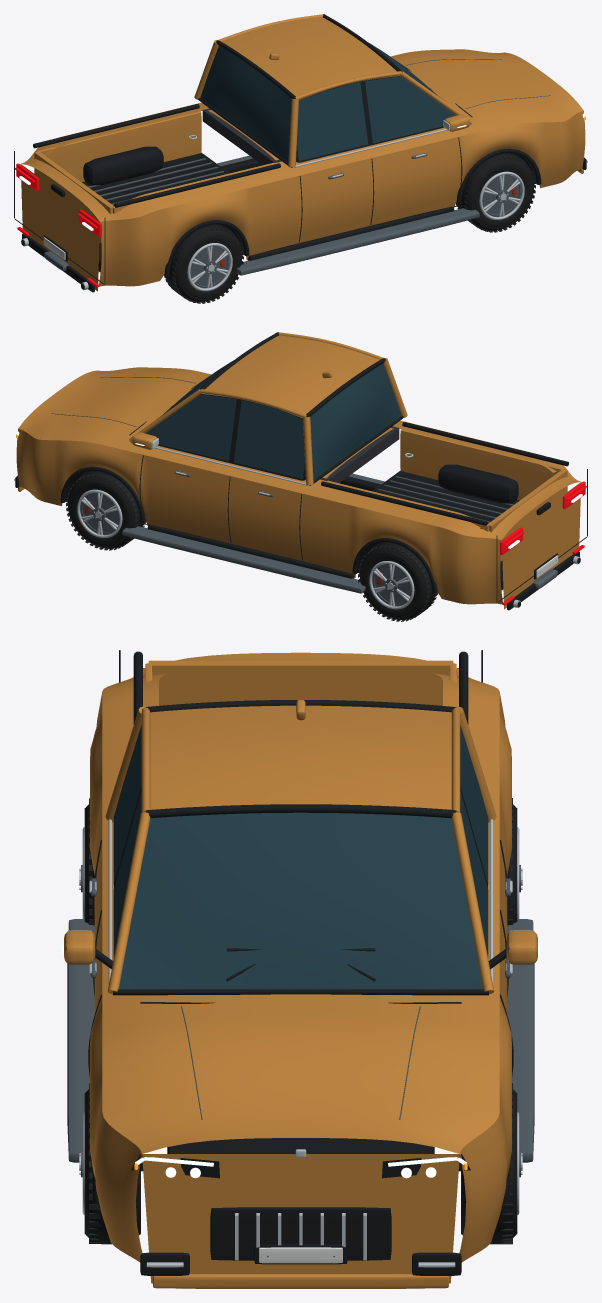
Rendered from pickup.glb.
The picture shows the model from 3 angles, top to bottom: view 1: azimuth 30°, elevation 25°; view 2: azimuth 150°, elevation 25°; view 3: azimuth 270°, elevation 25°; orthographic projection. The views are drawn at different scales.
Parts seen in each view (by area): view 1: Paint / body colour, Smoked automotive glass, Satin black trim, Graphite alloy, Tyre rubber, Satin aluminium, Tyre tread edges, Charcoal upholstery, Rear light lenses, Panel gaps; view 2: Paint / body colour, Smoked automotive glass, Satin black trim, Graphite alloy, Tyre rubber, Satin aluminium, Tyre tread edges, Charcoal upholstery, Rear light lenses, Panel gaps; view 3: Paint / body colour, Smoked automotive glass, Satin black trim, Graphite alloy, Satin aluminium, Tyre rubber, Tyre tread edges, Plain number plates, Panel gaps, LED daylight.
Part boxes in pixels (box(x1,y1,x2,y2)): Paint / body colour: box(20, 14, 585, 291); Smoked automotive glass: box(200, 42, 455, 162); Satin black trim: box(21, 14, 586, 292); Graphite alloy: box(44, 59, 550, 288); Tyre rubber: box(166, 153, 534, 301); Satin aluminium: box(21, 124, 587, 291); Tyre tread edges: box(164, 155, 535, 303); Charcoal upholstery: box(202, 108, 281, 165); Rear light lenses: box(15, 163, 101, 287); Panel gaps: box(14, 63, 472, 284); Paint / body colour: box(16, 332, 581, 609); Smoked automotive glass: box(146, 360, 401, 480); Satin black trim: box(15, 332, 580, 610); Graphite alloy: box(51, 377, 557, 606); Tyre rubber: box(67, 471, 435, 619); Satin aluminium: box(14, 442, 580, 609); Tyre tread edges: box(66, 471, 437, 621); Charcoal upholstery: box(320, 426, 399, 483); Rear light lenses: box(500, 481, 586, 605); Panel gaps: box(129, 381, 587, 602); Paint / body colour: box(64, 652, 537, 1288); Smoked automotive glass: box(113, 725, 488, 989); Satin black trim: box(92, 651, 509, 1275); Graphite alloy: box(67, 865, 534, 1257); Satin aluminium: box(79, 819, 522, 1267); Tyre rubber: box(85, 804, 516, 1244); Tyre tread edges: box(84, 798, 517, 1244); Plain number plates: box(259, 1247, 342, 1263); Panel gaps: box(88, 650, 513, 1076); LED daylight: box(62, 945, 539, 1178).
Bounding box in the file's own units: 5.57 × 1.94 × 2.31.
